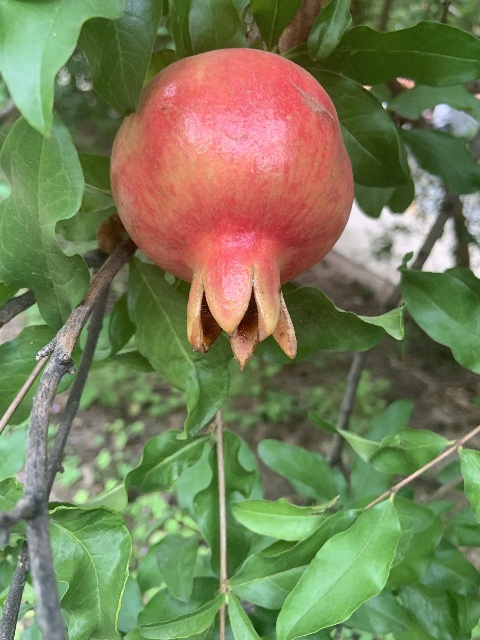ripe: (110, 47, 354, 370)
